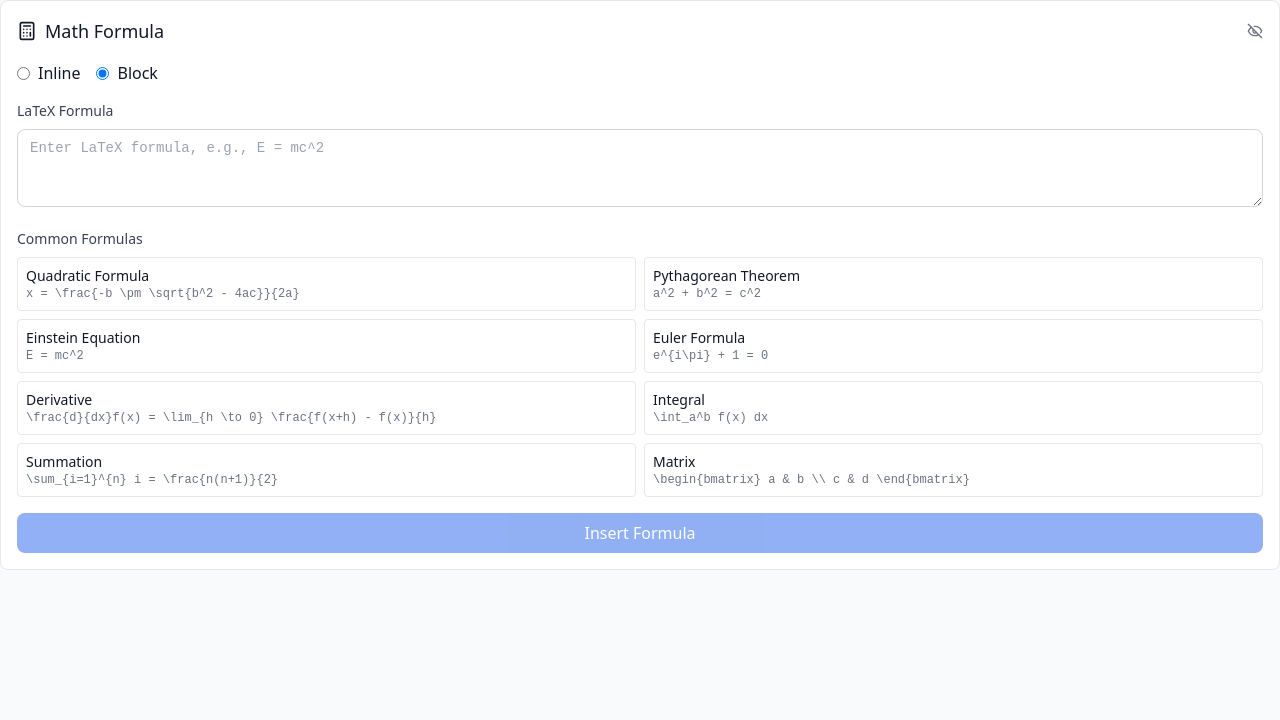
Test: MathEditor › shows a readable preview
// user-event treats braces as key descriptors, so paste the LaTeX instead.
Click the text box with test id "math-input" at (640, 168), box left=17, top=129, right=1263, bottom=207
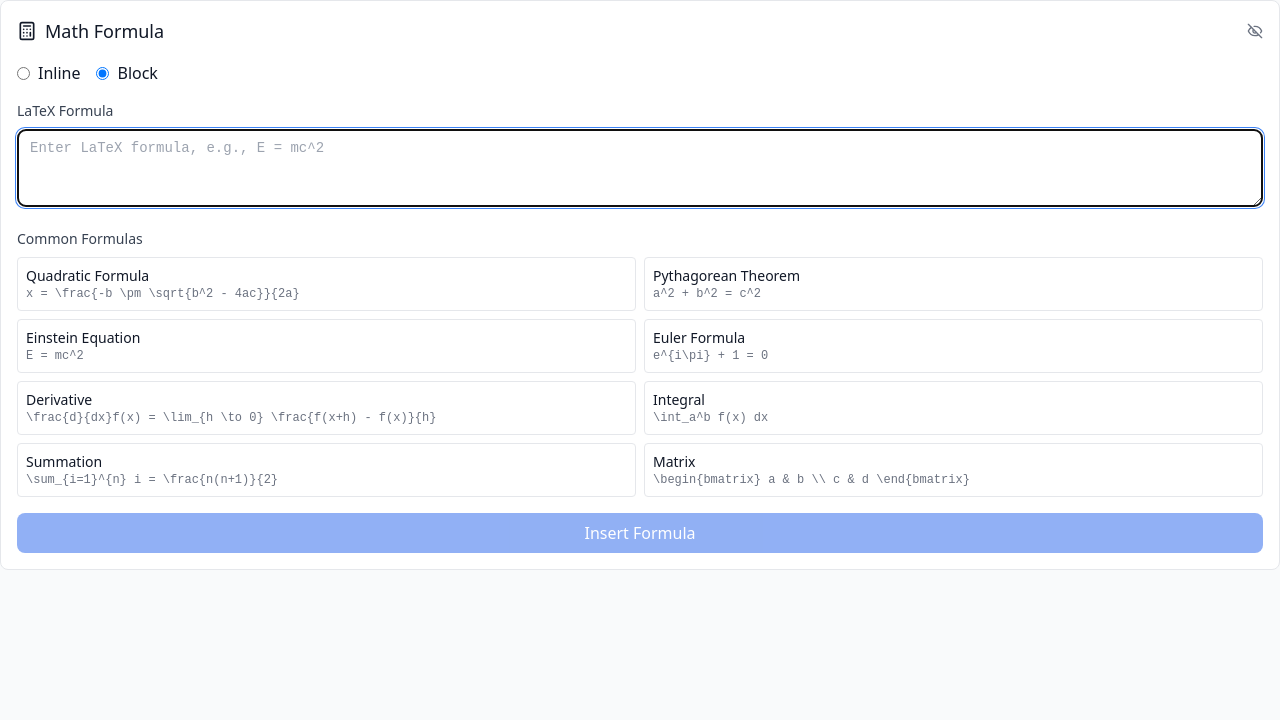
Type keys "\\alpha + \\beta"
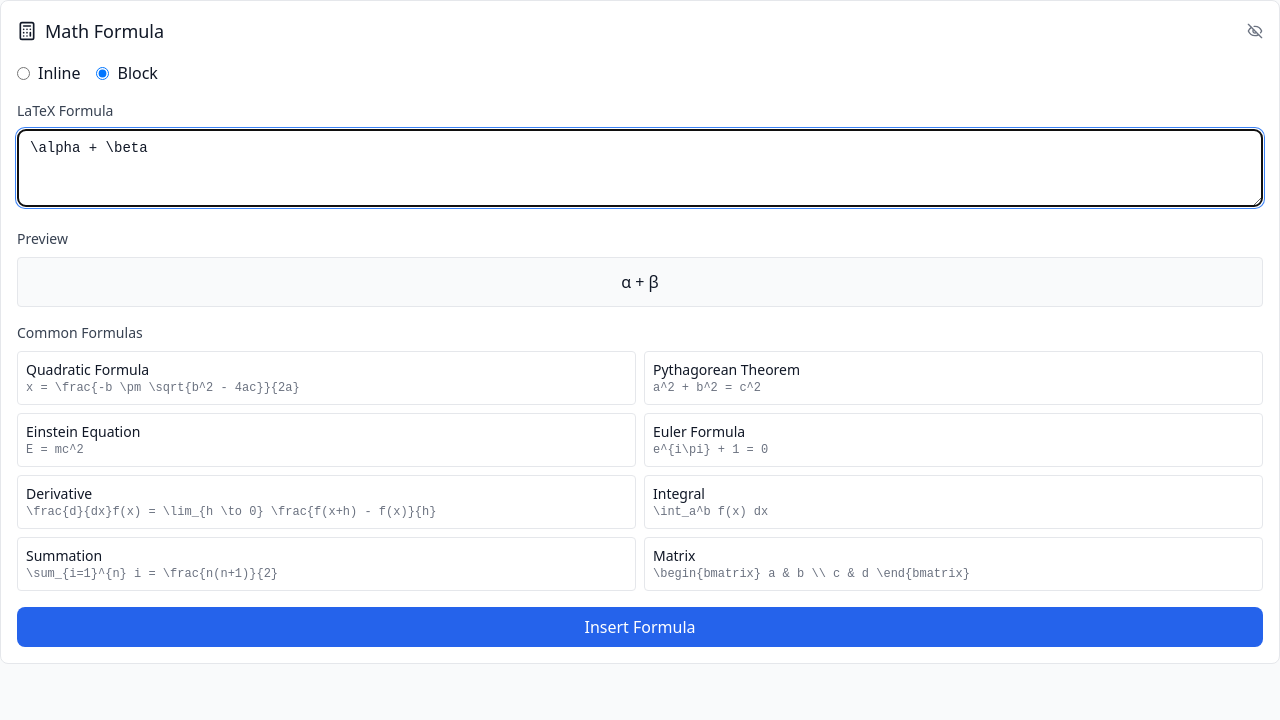
Check: the text with test id "math-preview" reads "α + β", box left=621, top=271, right=659, bottom=293
